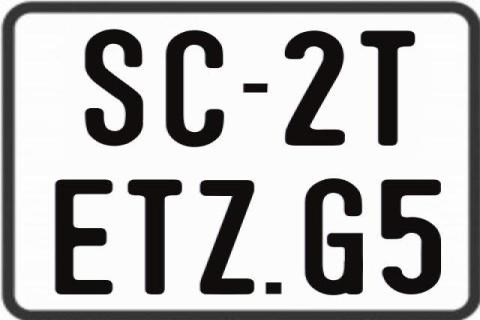0: (283, 29, 345, 149), (379, 178, 442, 296)
C: (166, 29, 225, 149)
E: (54, 178, 114, 296)
G: (305, 178, 367, 300)
S: (84, 27, 146, 144)
T: (358, 29, 418, 150), (127, 180, 182, 298)
Z: (198, 178, 257, 294)
